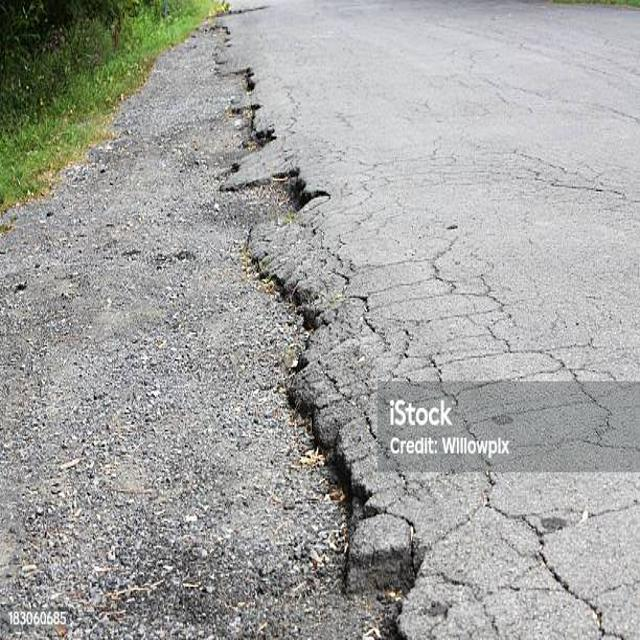Pinggir: (173, 21, 532, 640)
